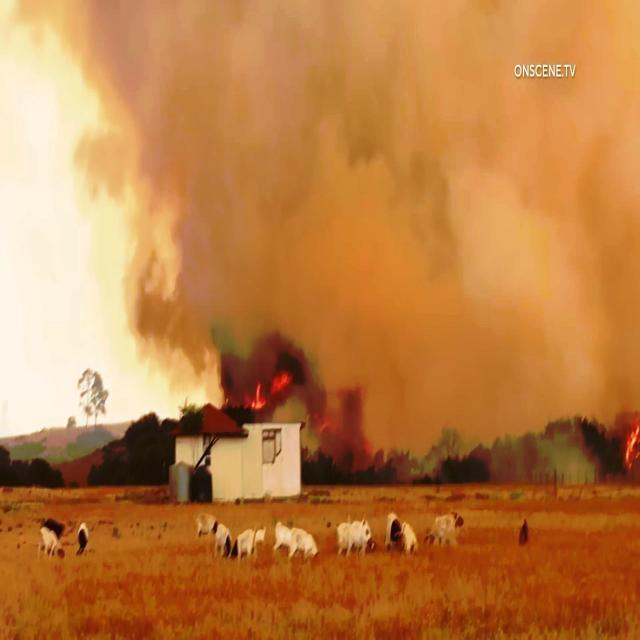Smoke: (314, 72, 615, 340)
